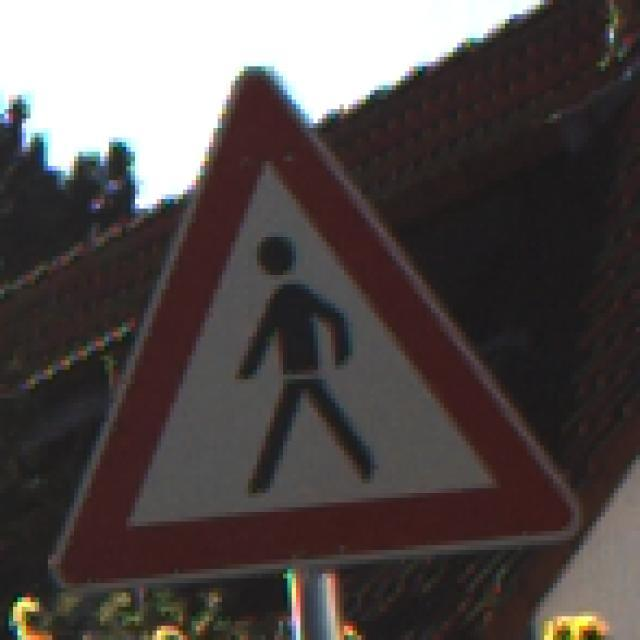pedestrian crossing: (53, 67, 570, 579)
